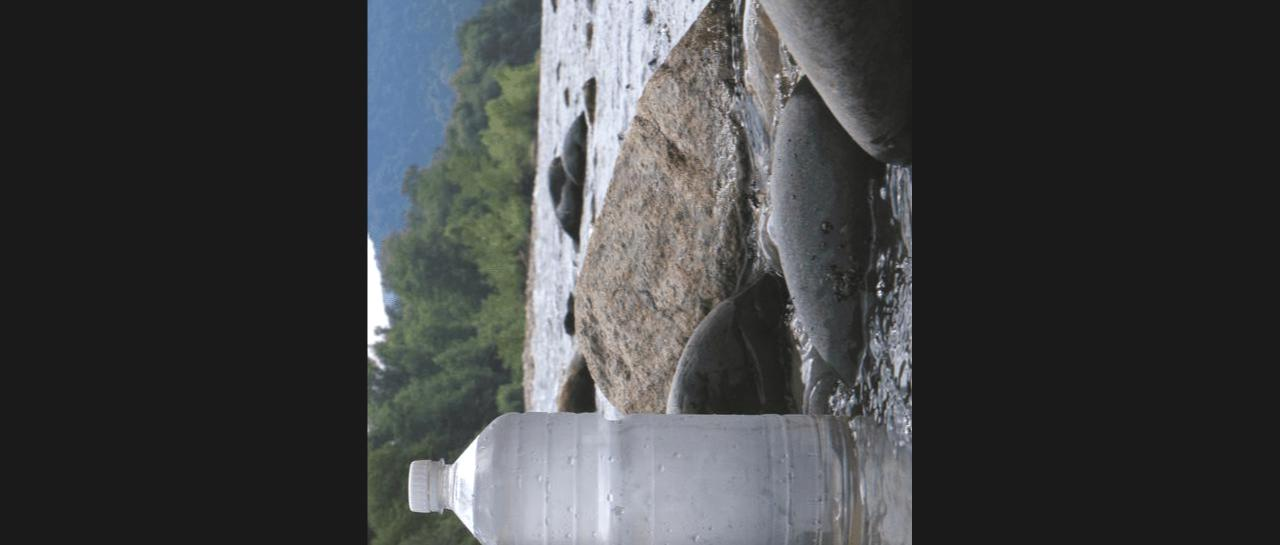bottle: (405, 410, 864, 545)
